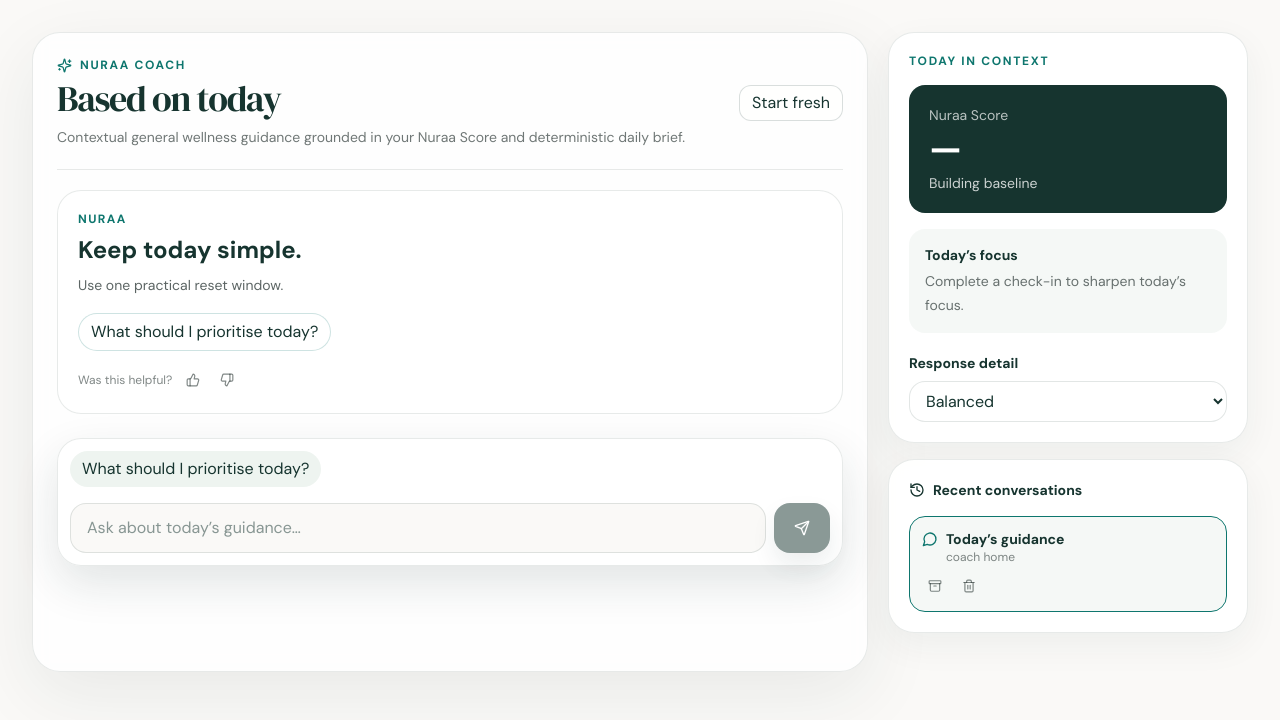
Test: CoachPage access and consent › keeps the submitted follow-up visible with the Nuraa reply
The width and height of the screenshot is (1280, 720).
Check: the heading "Keep today simple." is shown, box [78,234,302,265]
Check: the text box named "ask nuraa coach" is enabled, box [70,503,766,553]
Click the button "What should I prioritise today?" below "Use one practical reset window." at (205, 332), box [78,313,331,351]
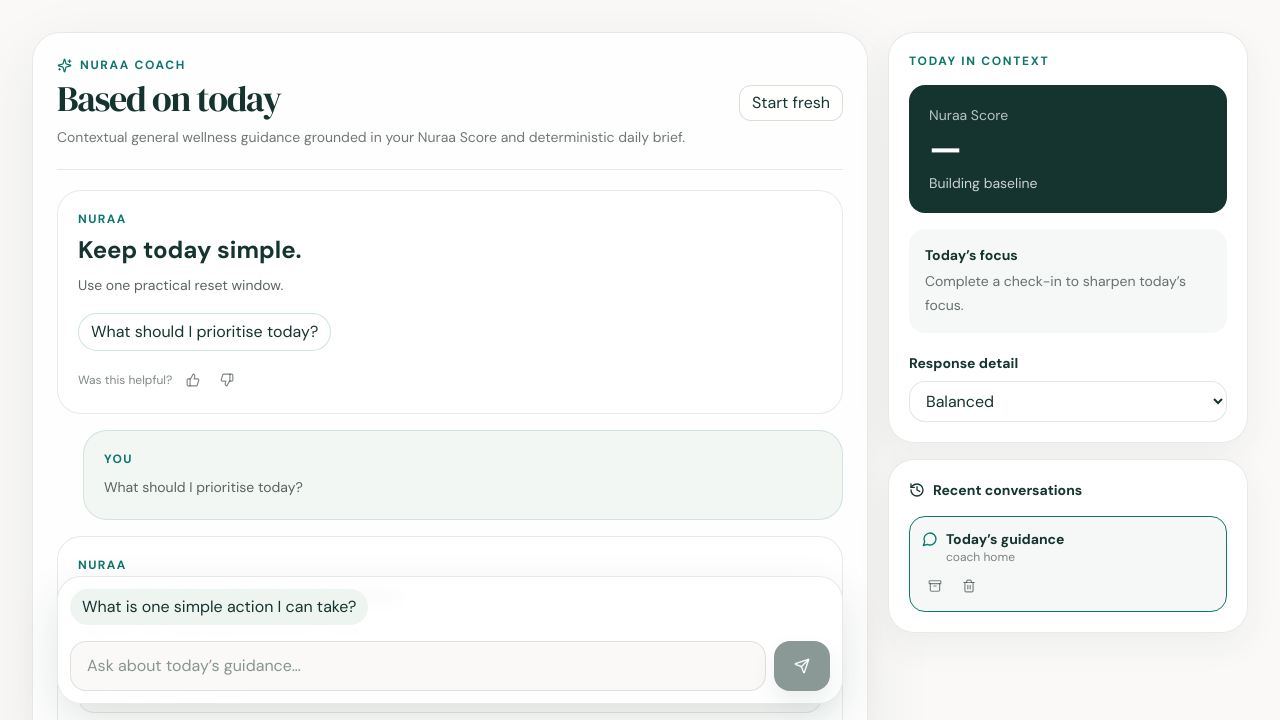
Check: the heading "Prioritise one steady action" is shown, box [78,580,401,611]
